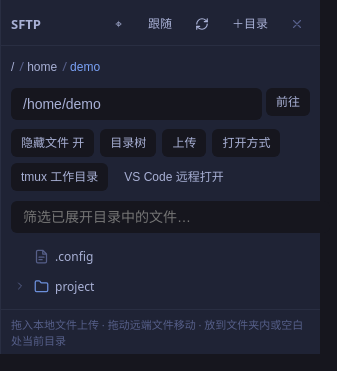
Test: starts at home, toggles dotfiles and expands directories without leaving the root
Expected: the text ".config" is shown, left=55, top=248, right=93, bottom=264
Click the button "隐藏文件 开" at (53, 143), box left=11, top=129, right=94, bottom=157
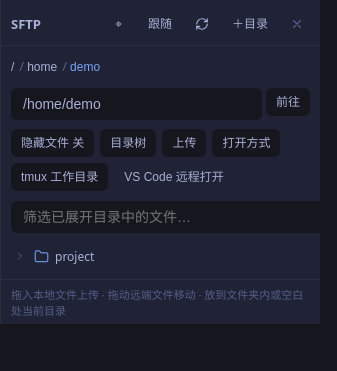
Expected: the text ".config" is gone
Click the button named "展开 project" at (20, 256), box left=12, top=245, right=28, bottom=267
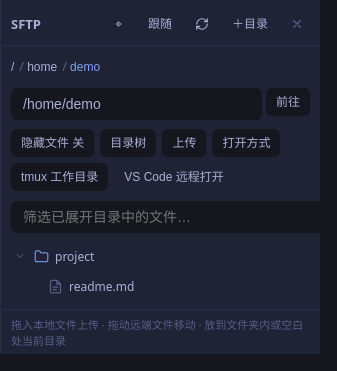
Expected: the field named "远程路径" holds "/home/demo", left=11, top=88, right=262, bottom=120
Expected: the text "readme.md" is shown, left=69, top=278, right=134, bottom=294
